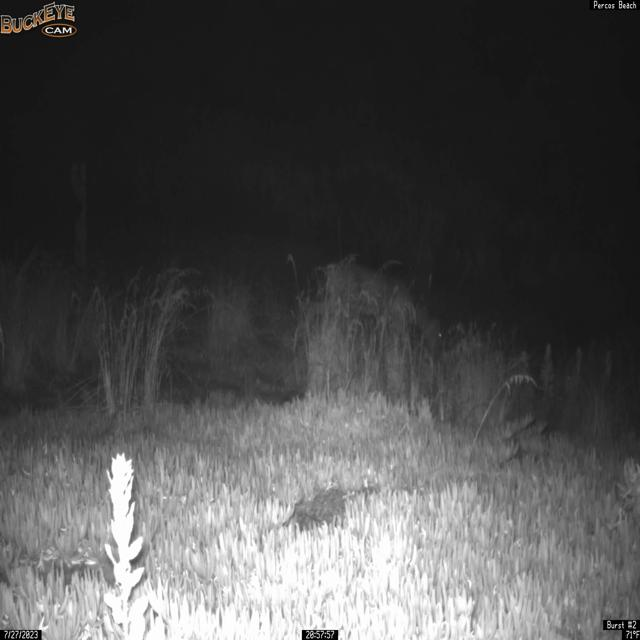deer: (313, 259, 445, 358)
